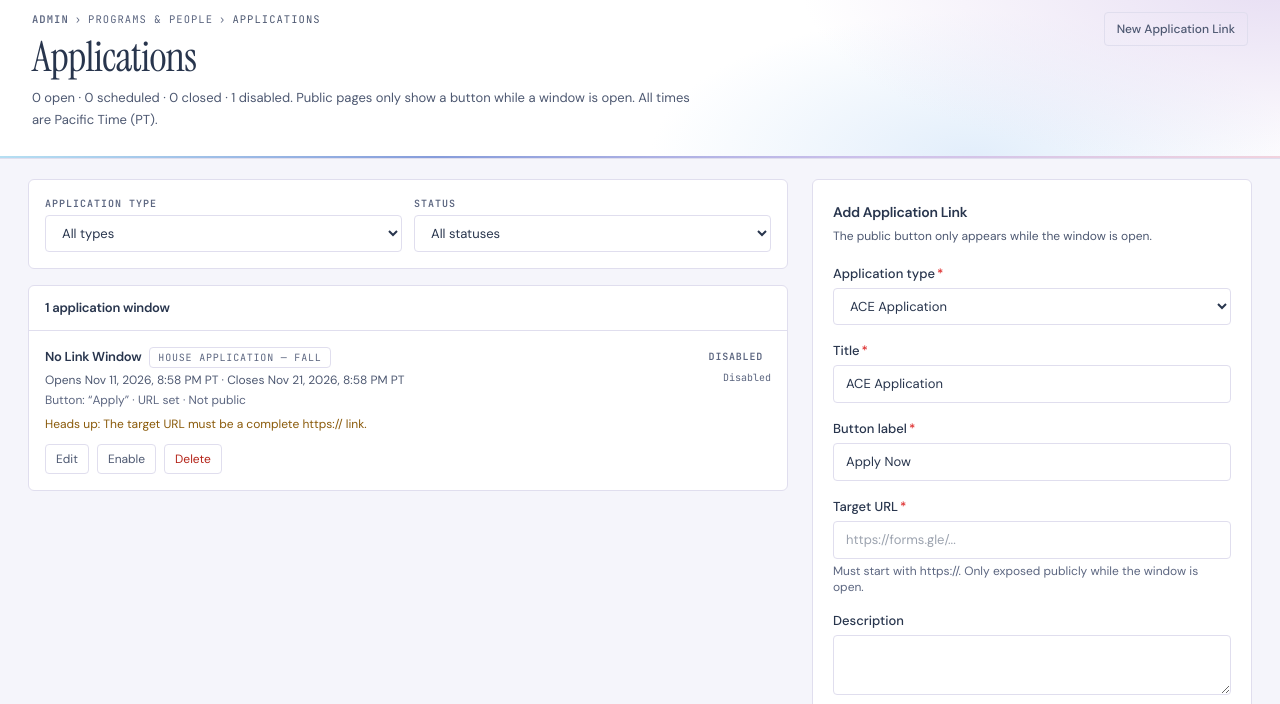
Test case: public preview › will not preview the open state without a usable link
Click the button "Edit": [67, 459] box [45,444,89,474]
(page scrolled)
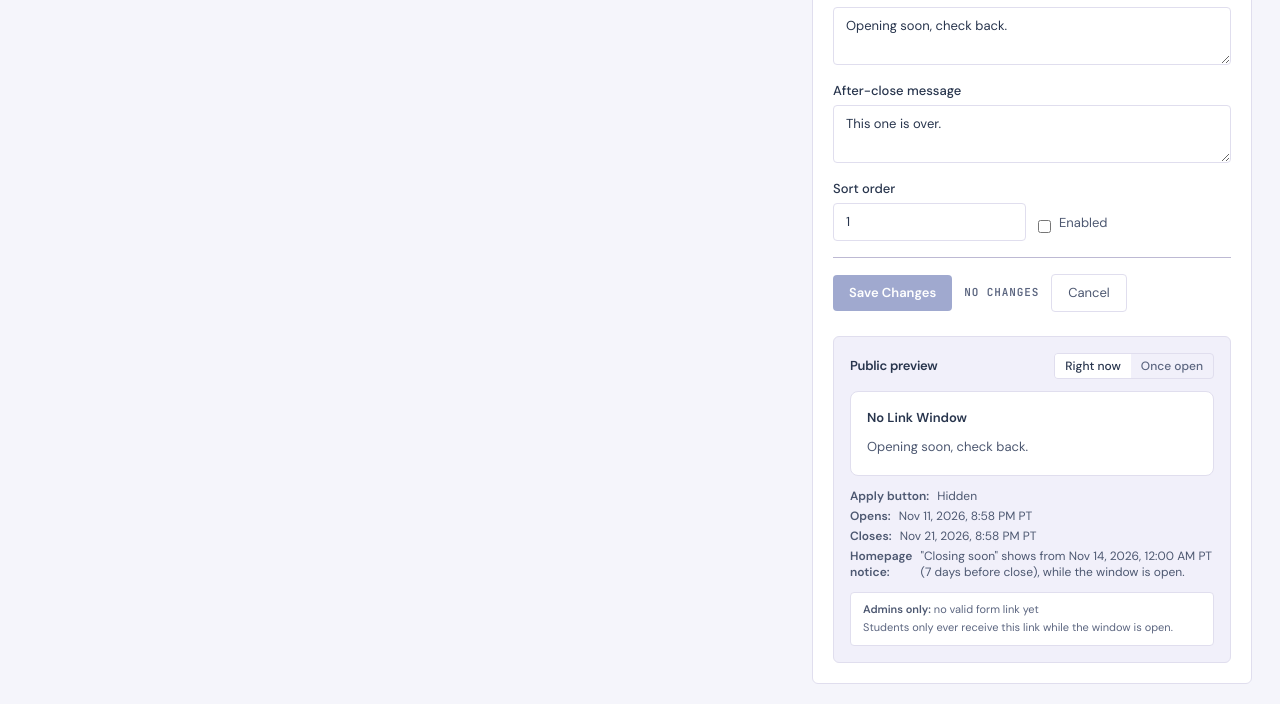
Click the button "Once open": [1172, 366] box [1131,354,1213,378]
(page scrolled)
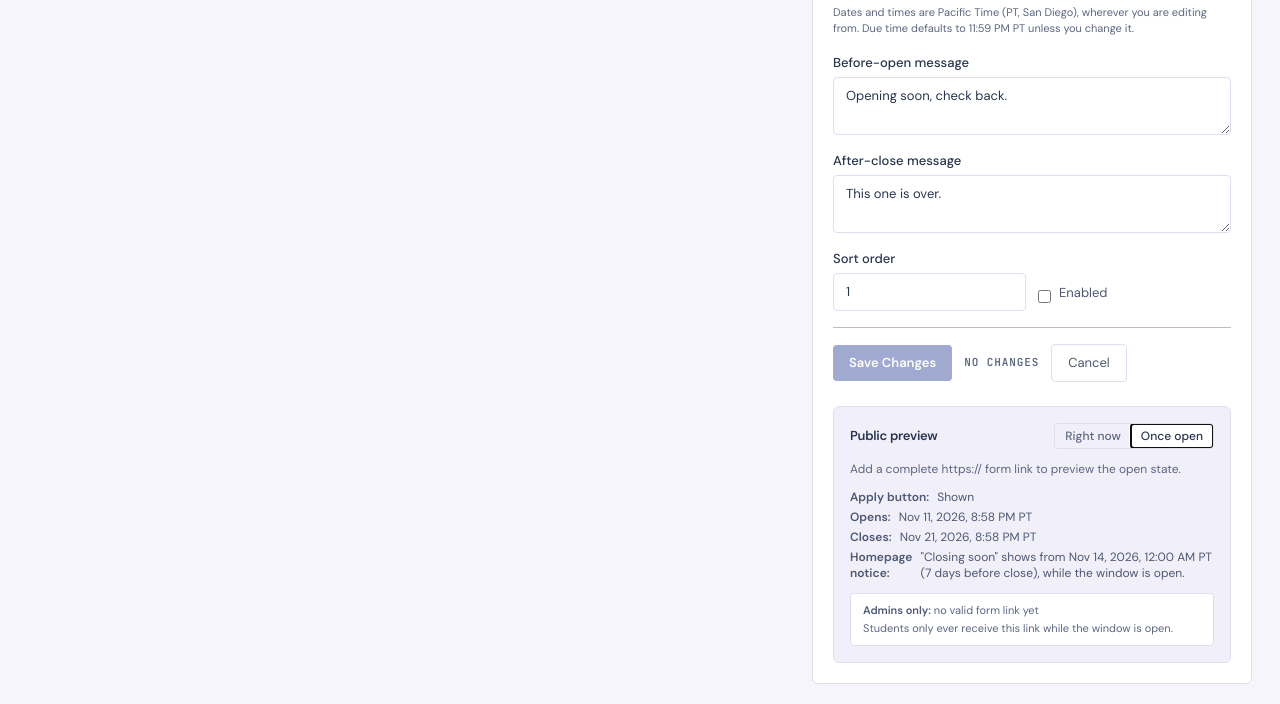
Expected: the text "Add a complete https:// form link to preview the open state." is shown, [850,461,1214,477]
Expected: the element with test id "application-preview-card" is gone
